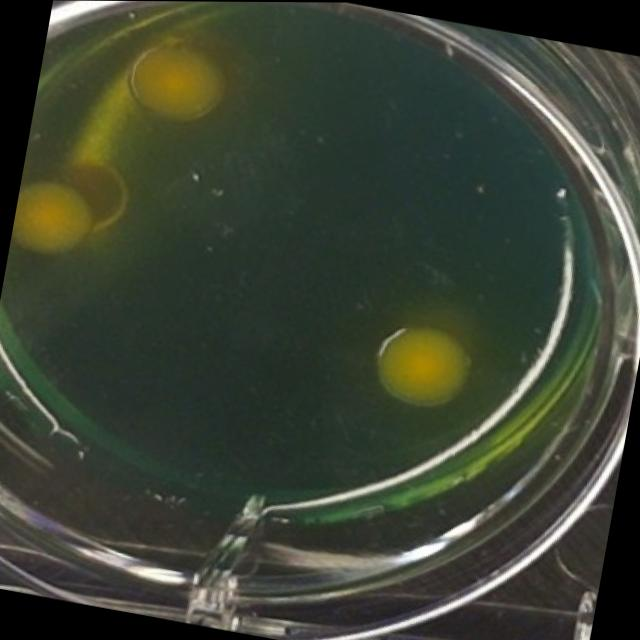vibrio: (356, 313, 482, 421), (112, 25, 228, 130), (7, 176, 106, 270)
